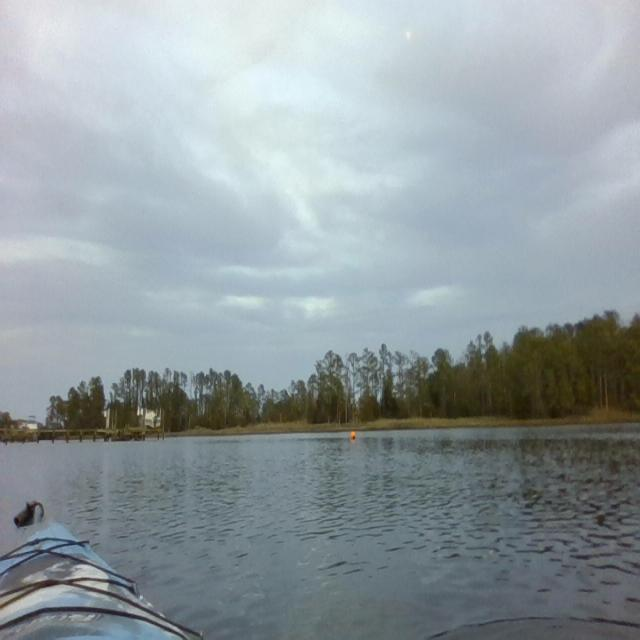Buoy: (349, 427, 357, 442)
